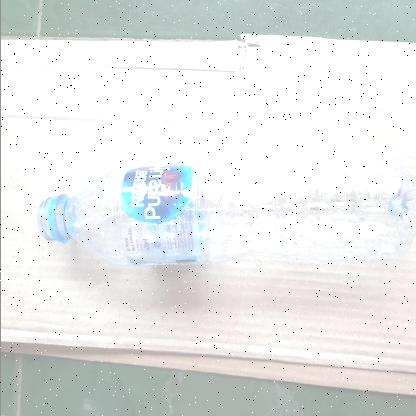Plastic Bottle: (36, 161, 416, 265)
